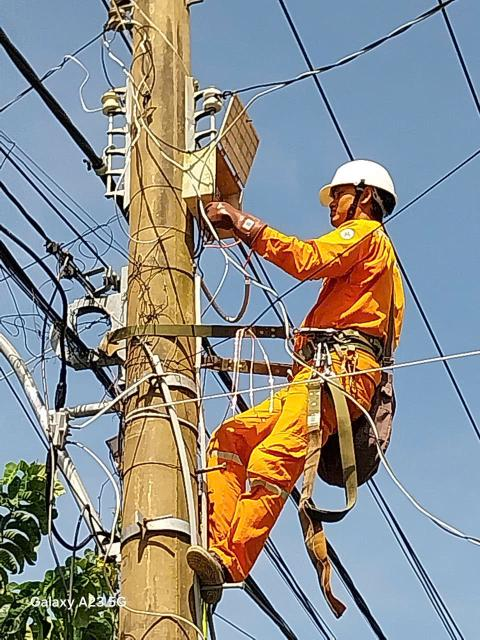gloves: (196, 198, 263, 250)
harness: (286, 311, 409, 388)
helmet: (316, 139, 408, 214)
shoes: (187, 541, 241, 607)
